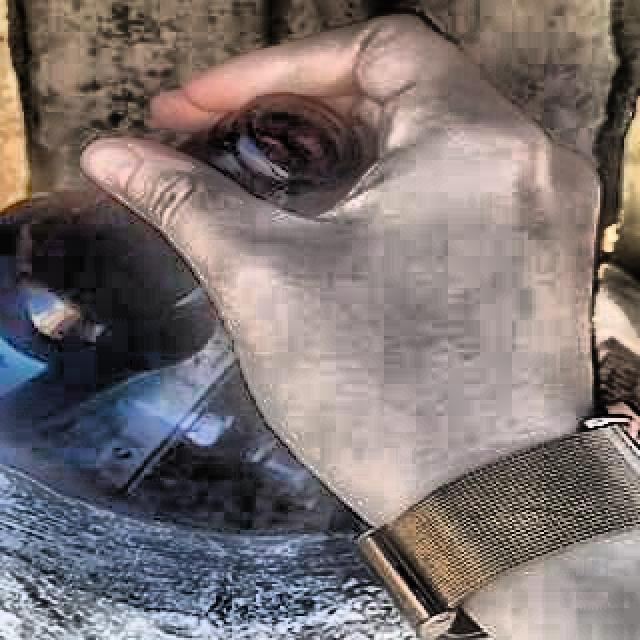glass: (0, 194, 219, 396), (180, 94, 367, 215)
